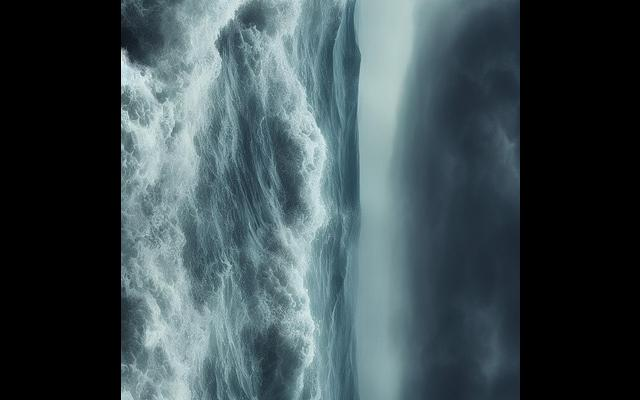Non_Gorille: (145, 0, 489, 400)
